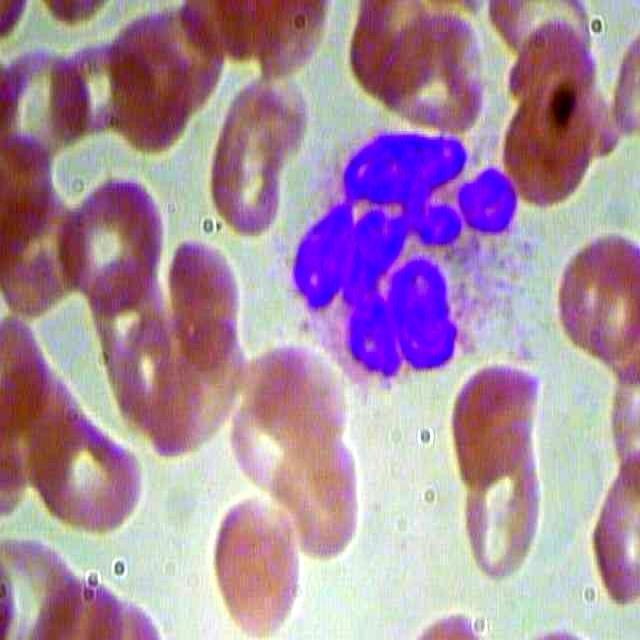RBC: (206, 69, 309, 239), (502, 76, 610, 209), (381, 3, 489, 136), (205, 492, 302, 640), (270, 426, 367, 574), (37, 404, 144, 537), (61, 174, 160, 314), (247, 331, 352, 448), (451, 361, 544, 487), (453, 453, 546, 579), (555, 230, 640, 366), (164, 231, 245, 372), (103, 33, 193, 151), (1, 184, 80, 317), (1, 43, 89, 160), (106, 304, 182, 425)
WBC: (268, 121, 554, 382)
